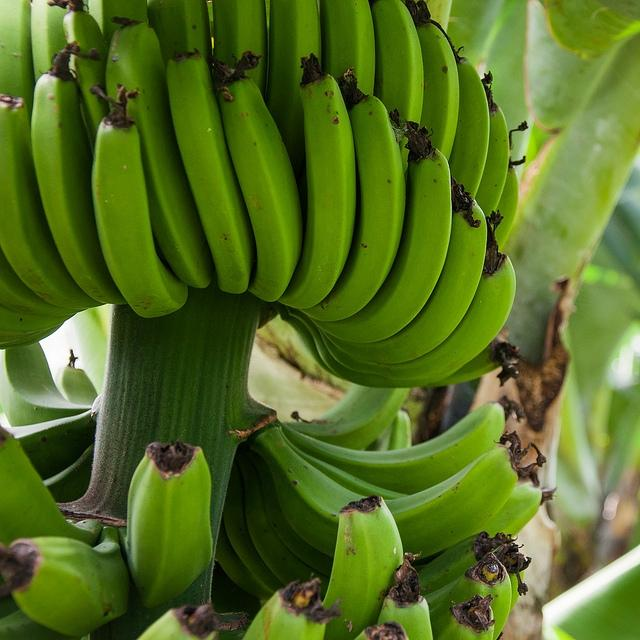banana: (245, 421, 546, 561), (316, 210, 516, 380), (278, 424, 558, 538), (322, 173, 488, 364), (310, 119, 452, 342), (104, 14, 218, 290), (300, 67, 406, 322), (30, 40, 127, 304), (274, 396, 526, 496), (206, 51, 304, 302), (90, 84, 188, 318), (1, 93, 106, 309), (166, 47, 256, 296), (276, 56, 356, 310), (277, 308, 527, 386), (234, 442, 334, 604), (119, 440, 214, 608), (0, 524, 132, 639), (0, 426, 103, 548), (322, 496, 404, 639), (46, 0, 114, 154), (266, 2, 322, 185), (279, 382, 411, 450), (222, 457, 286, 592), (1, 342, 92, 428), (430, 552, 512, 638), (368, 0, 424, 124), (3, 410, 96, 480), (448, 46, 490, 199), (418, 532, 518, 596), (242, 577, 342, 640), (0, 245, 87, 316), (416, 22, 459, 162), (320, 0, 376, 96), (212, 0, 267, 96), (376, 550, 434, 640), (215, 512, 274, 600), (475, 71, 510, 217), (146, 0, 212, 75), (2, 20, 36, 128), (42, 443, 94, 503), (31, 0, 68, 84), (88, 0, 148, 50), (495, 156, 526, 252), (491, 542, 532, 614), (432, 594, 496, 640), (138, 604, 219, 637), (0, 609, 82, 640), (54, 349, 98, 406), (1, 306, 76, 338), (0, 322, 65, 349), (387, 407, 412, 450), (356, 621, 410, 640), (0, 327, 52, 344)
